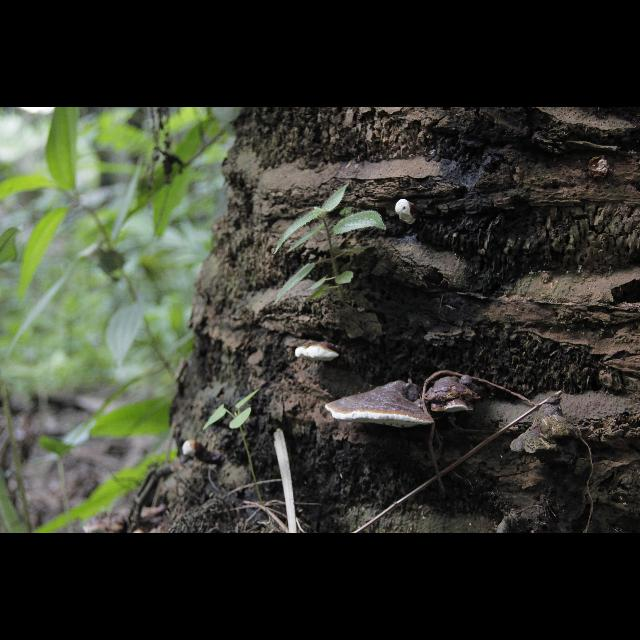ganoderma: (325, 381, 435, 429), (423, 376, 483, 414), (296, 344, 341, 363)
primordium: (396, 200, 418, 226), (183, 441, 203, 460)
